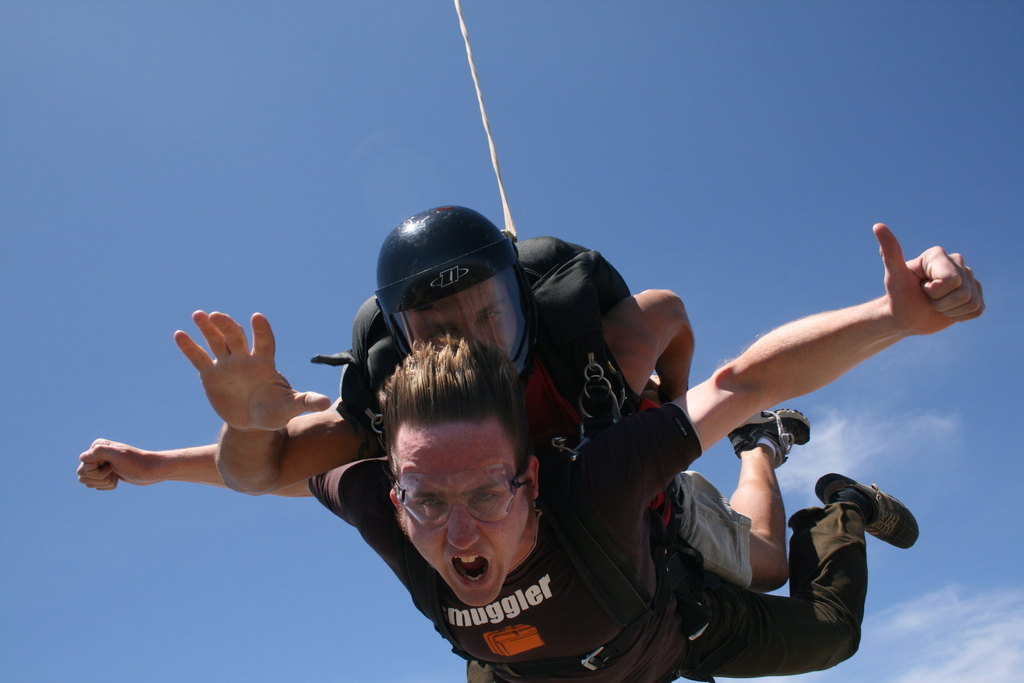Person: (75, 222, 985, 683), (171, 204, 811, 594)
